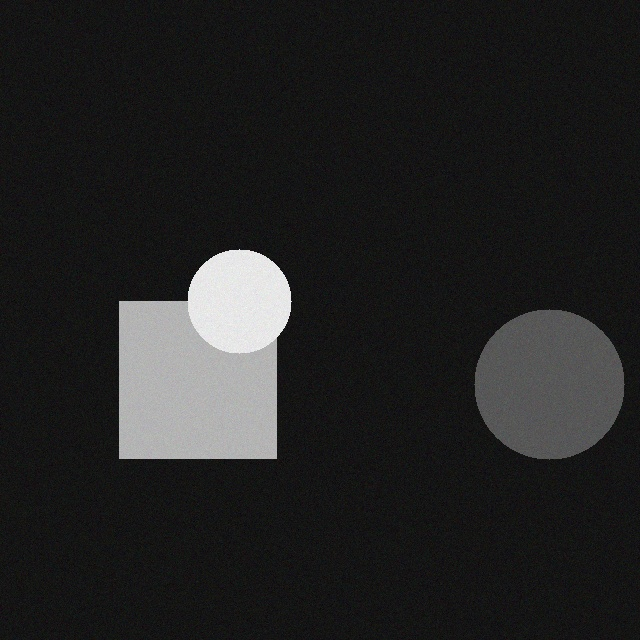circle: (467, 302, 617, 452), (180, 242, 284, 346)
square: (112, 294, 269, 451)
